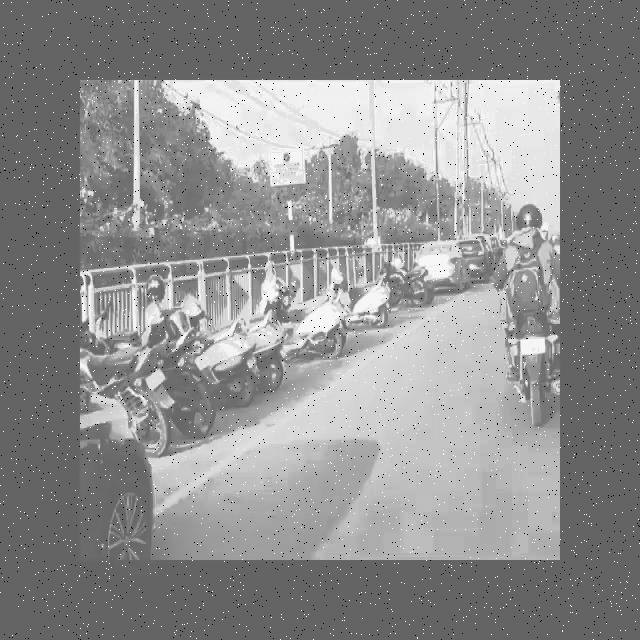Bike: (488, 195, 567, 437), (142, 289, 265, 406), (79, 334, 175, 449), (184, 292, 290, 388), (261, 270, 349, 355), (328, 265, 393, 327), (378, 261, 434, 306)
Car: (66, 335, 161, 560), (414, 225, 492, 299), (459, 238, 490, 278)
